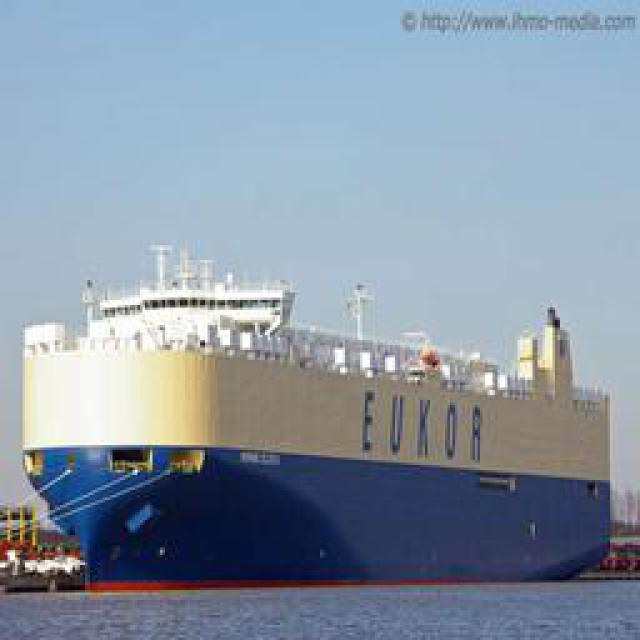Ship: (23, 251, 618, 596)
